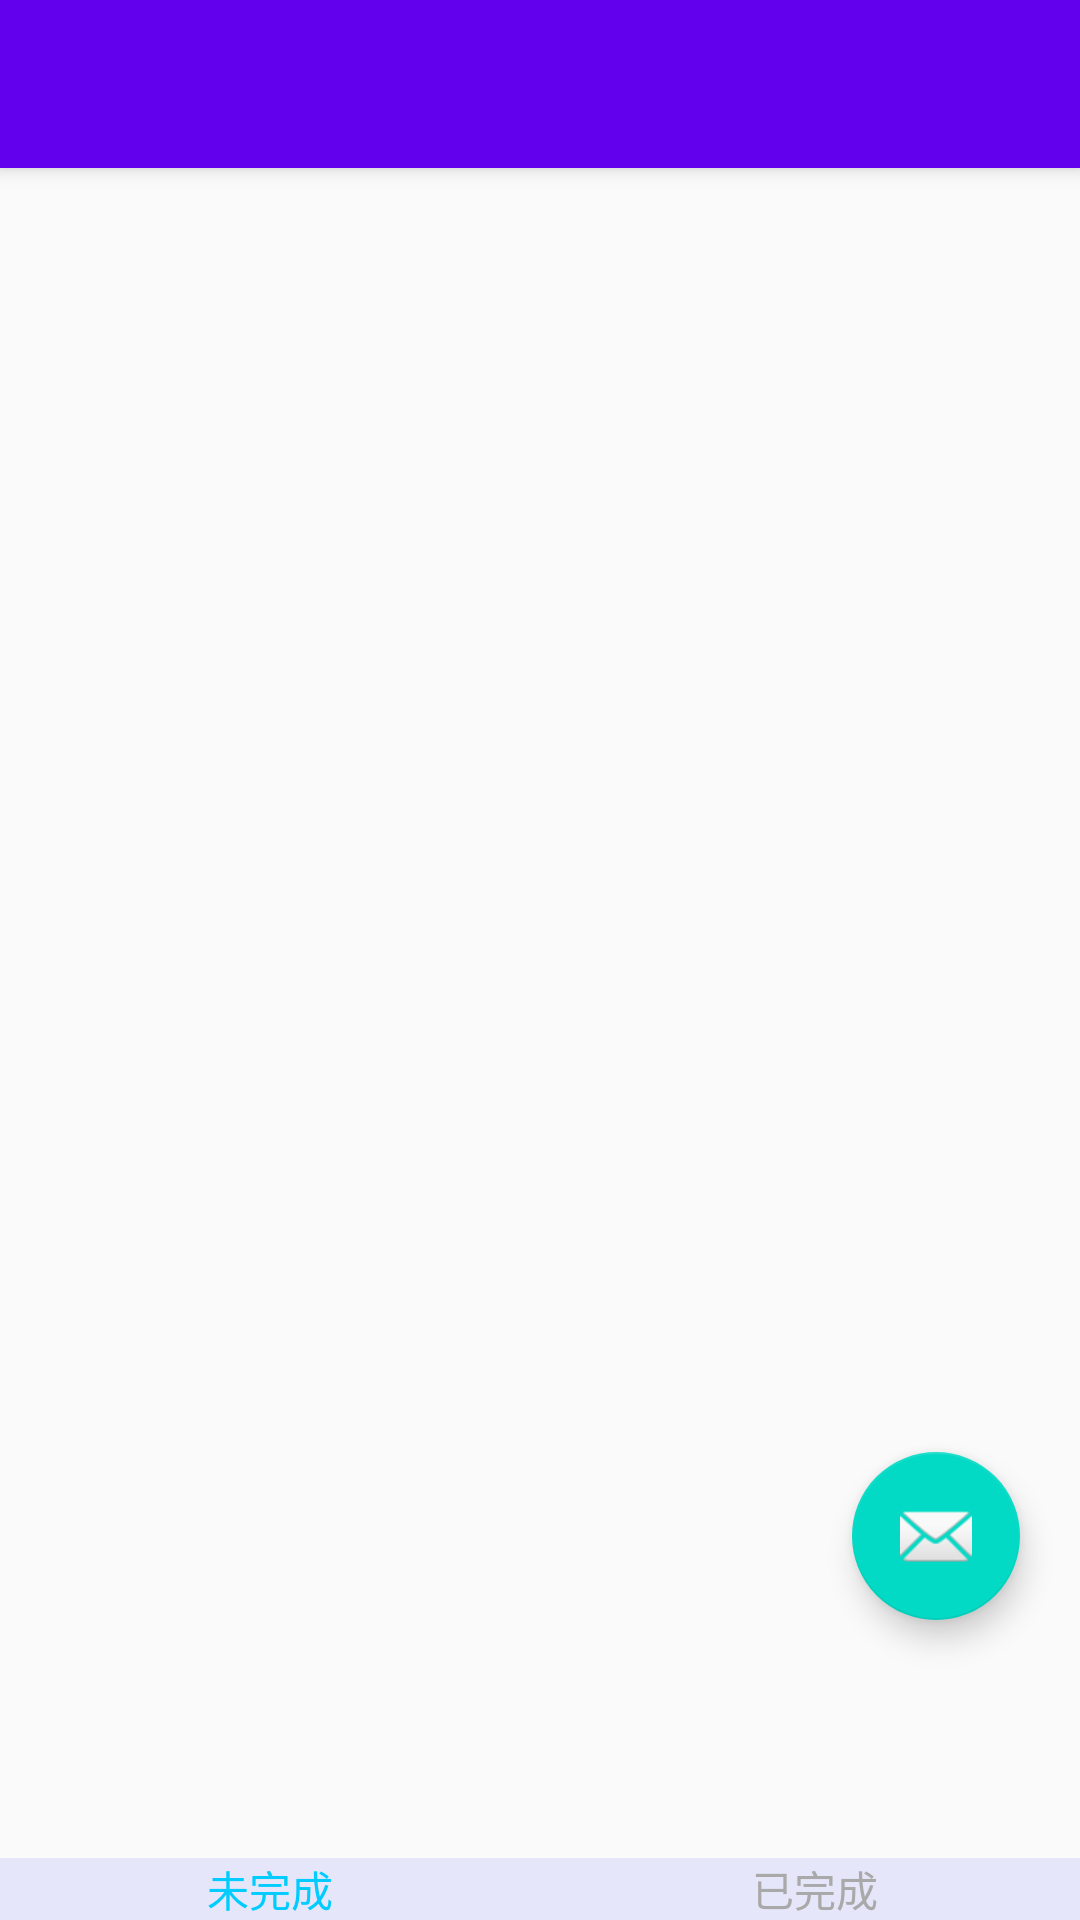

Point at icon controls on the screen. Image size 1080px×1920px, points as (x,y).
email: (936,1536)
